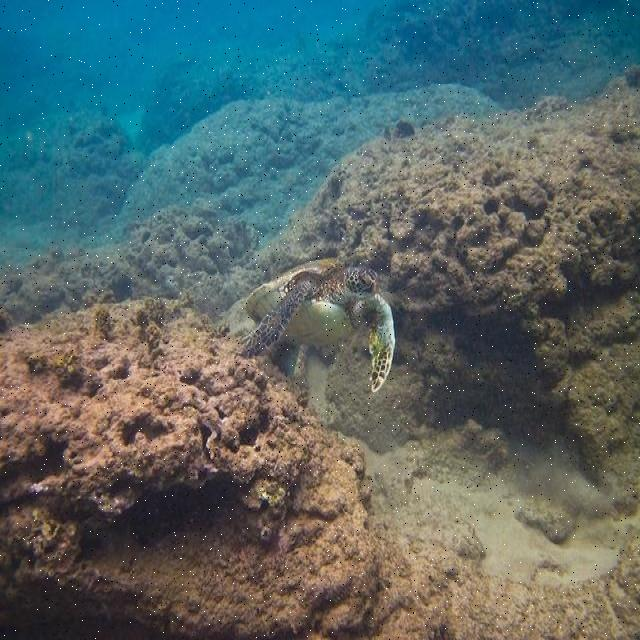fish: (242, 257, 396, 390)
